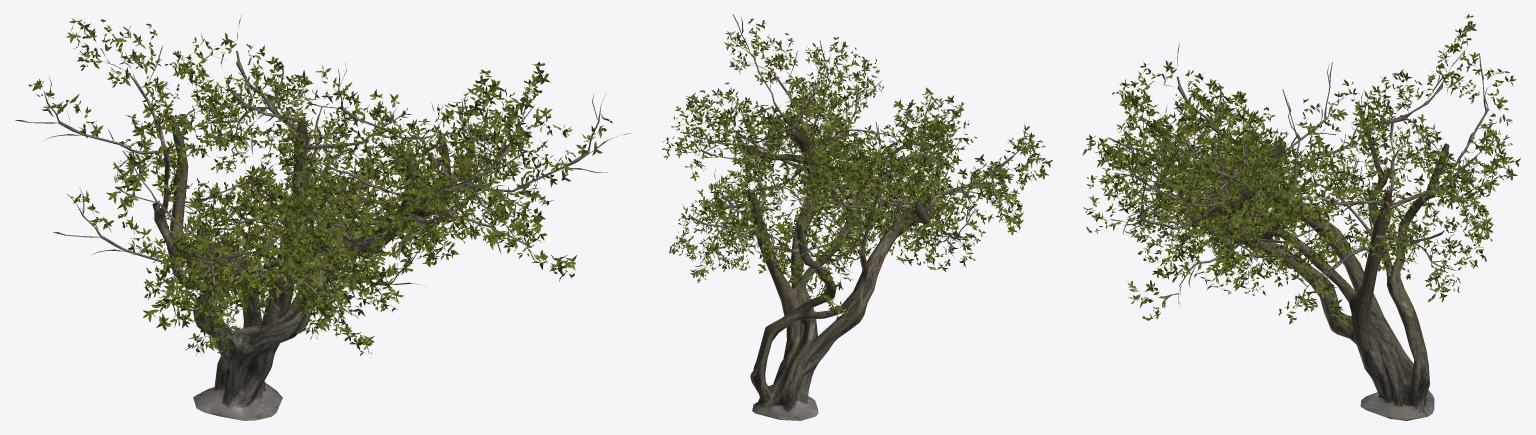
The picture shows the model from 3 angles, left to right: view 1: azimuth 30°, elevation 25°; view 2: azimuth 150°, elevation 25°; view 3: azimuth 270°, elevation 25°; orthographic projection. The views are drawn at different scales.
Visible parts, largest first — view 1: island_tree_02_lod0; view 2: island_tree_02_lod0; view 3: island_tree_02_lod0.
Boxes of the visible parts, bbox=[...] form: island_tree_02_lod0: bbox=[15, 15, 631, 420]; island_tree_02_lod0: bbox=[662, 14, 1052, 420]; island_tree_02_lod0: bbox=[1082, 14, 1520, 420].
Size of the model in its own units: 4.21 by 3.41 by 4.04.
3 materials, 3 textured.
